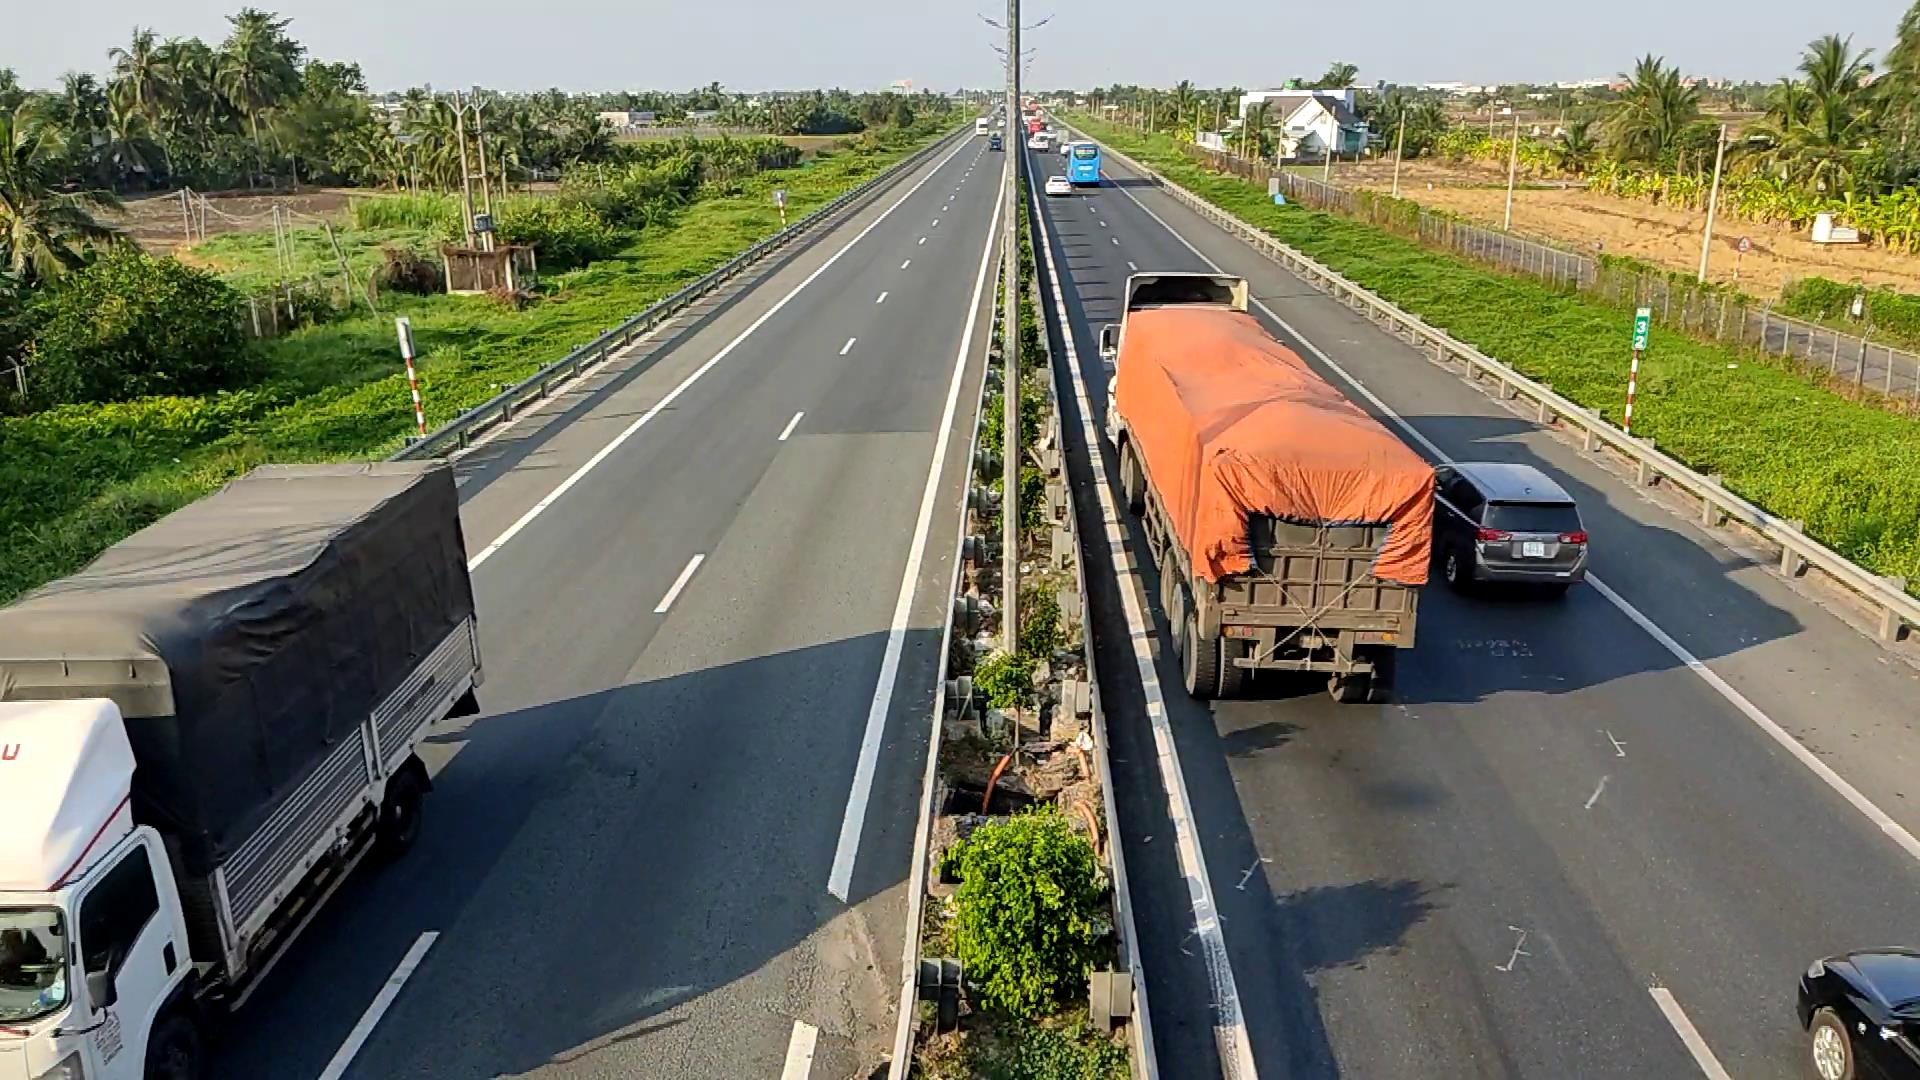car: (1453, 427, 1590, 624), (1795, 945, 1917, 1077)
truck: (0, 458, 485, 1067), (1100, 269, 1437, 703)
